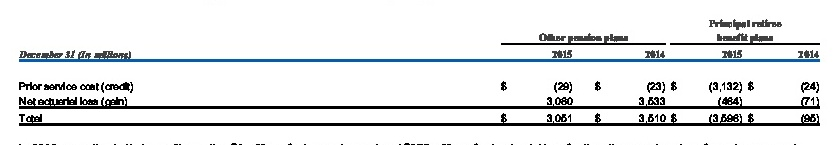table: (0, 0, 840, 145)
